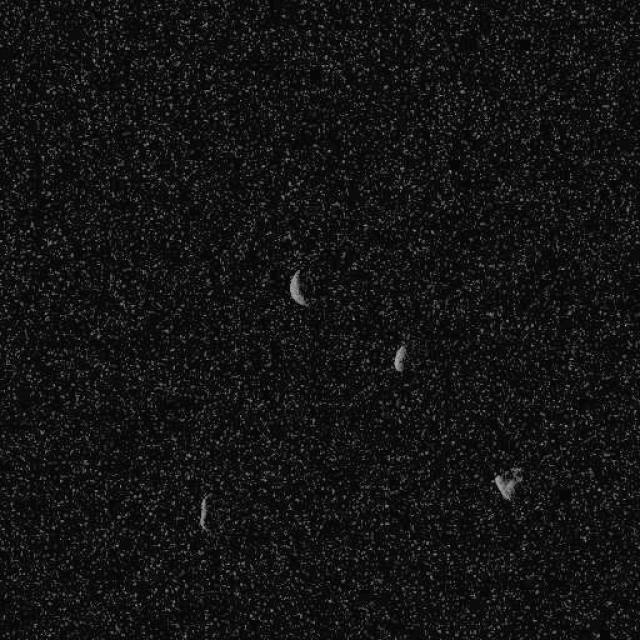D2: (492, 466, 522, 502), (288, 268, 308, 306), (198, 492, 210, 532), (392, 342, 406, 372)
